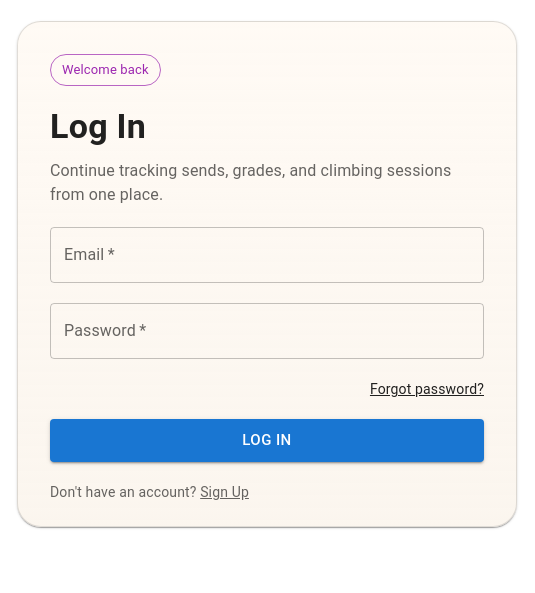
Test: Login Page › should show error message when login fails
Type "wrong@test.com" into the field labelled "Email *" at (267, 255), box top-left (50, 227), bottom-right (484, 283)
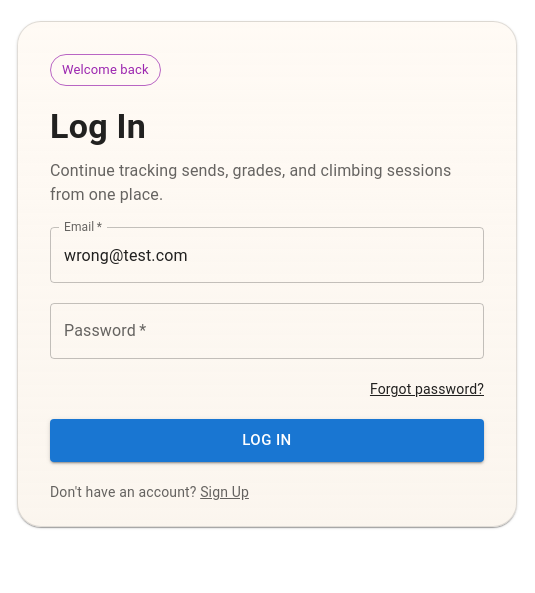
Type "wrongpassword" into the password field labelled "Password *" at (267, 331), box top-left (50, 303), bottom-right (484, 359)
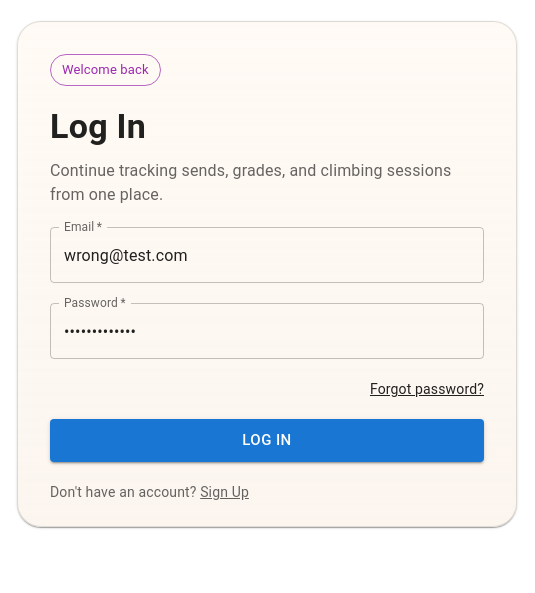
Click the button "Log In" at (267, 441), box top-left (50, 419), bottom-right (484, 462)
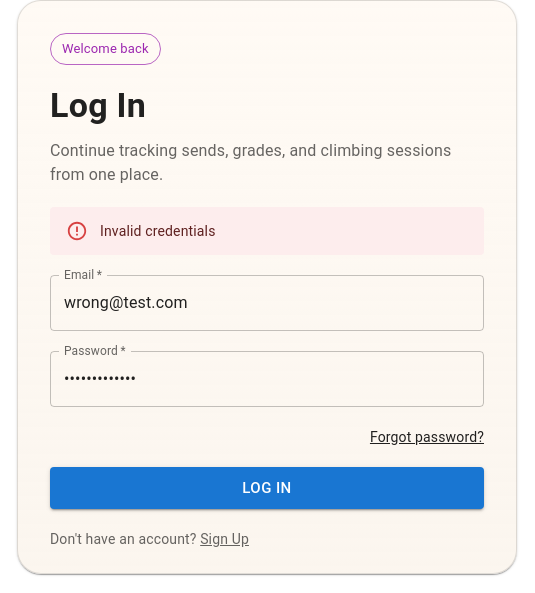
Expected: the text "Invalid credentials" is shown, top-left (100, 223), bottom-right (216, 239)
